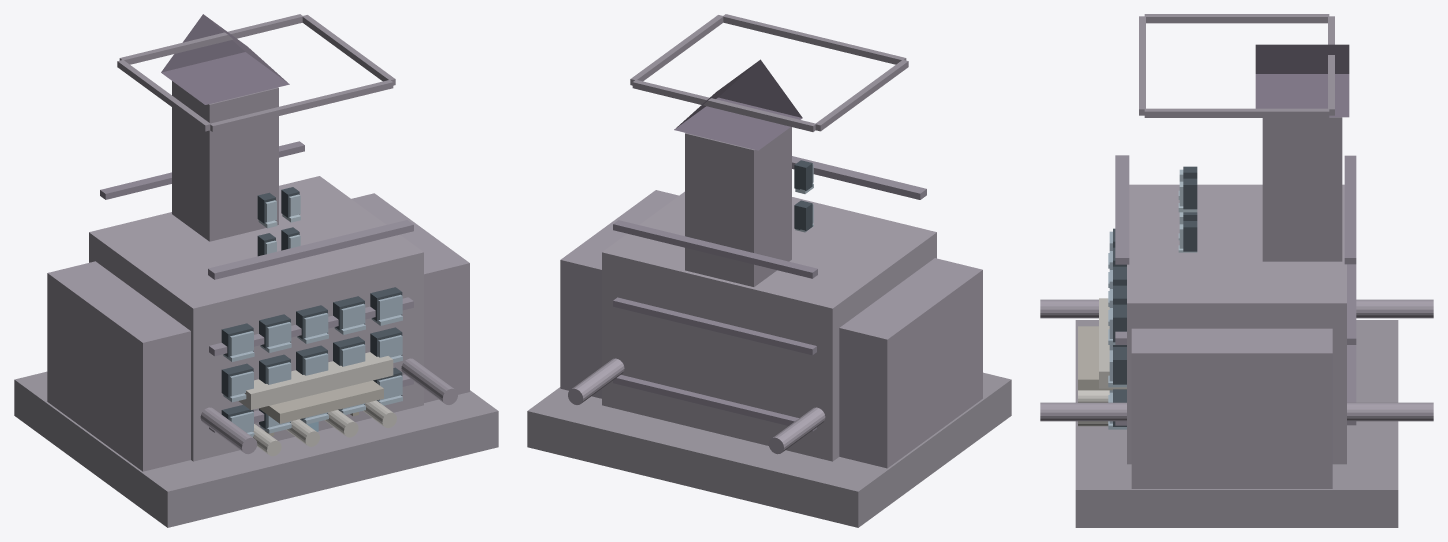
Rendered from university.glb.
3 renders of one model, left to right at view 1: azimuth 30°, elevation 25°; view 2: azimuth 150°, elevation 25°; view 3: azimuth 270°, elevation 25°, orthographic. The views are drawn at different scales.
Parts seen in each view (by area): view 1: world; view 2: world; view 3: world.
Part boxes in pixels (x1,y1,x2,y2): world: (14, 14, 498, 527); world: (527, 14, 1011, 527); world: (1040, 14, 1433, 527).
Size of the model in its own units: 1.72 by 1.93 by 1.68.
